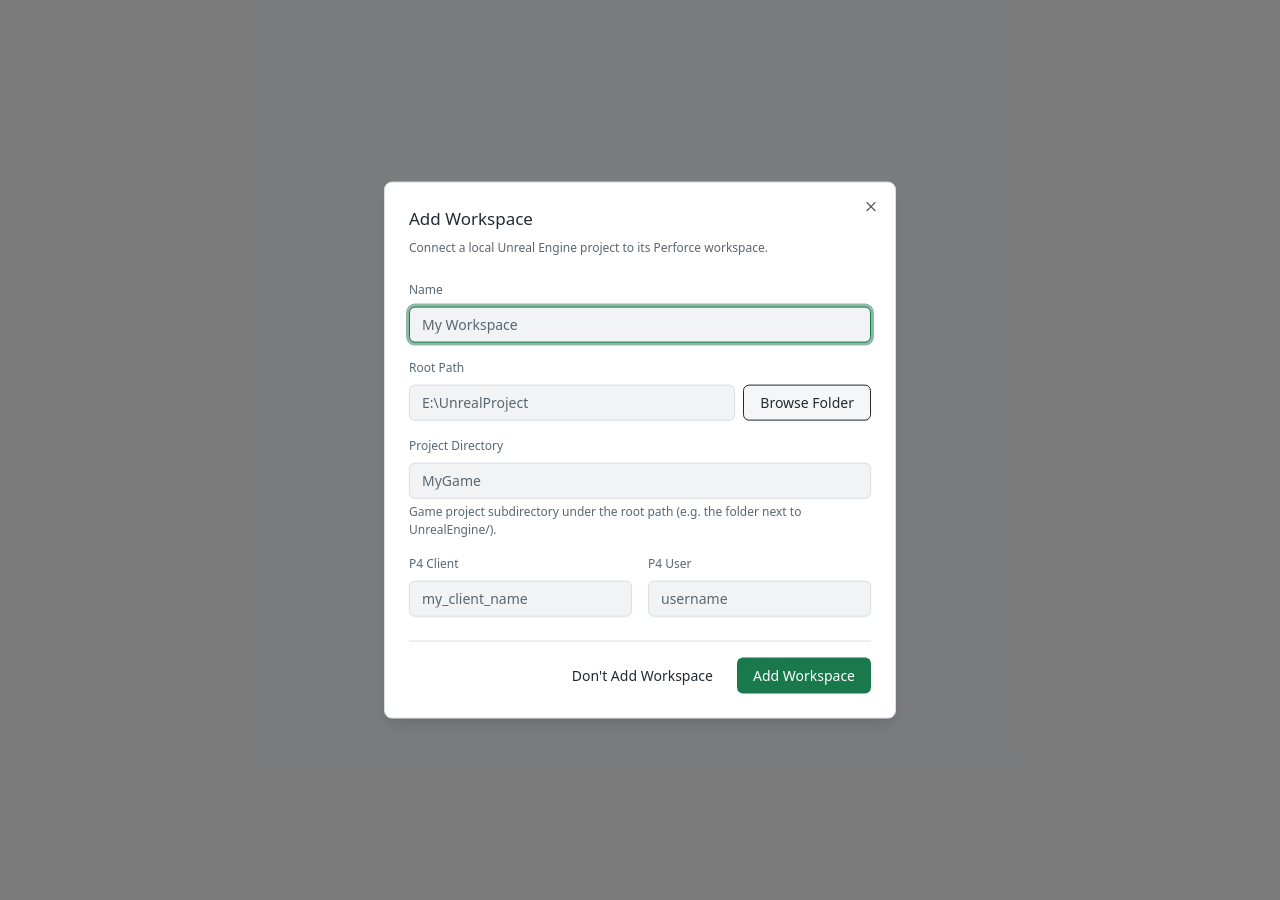
WorkspaceForm dictionary chrome › shows no error text until submit; empty submit shows all five field errors
Expected: the text "Name is required" is not shown
Expected: the text "Root path is required" is not shown
Click the button "Add Workspace": coordinates (804, 675) [737,657,871,693]
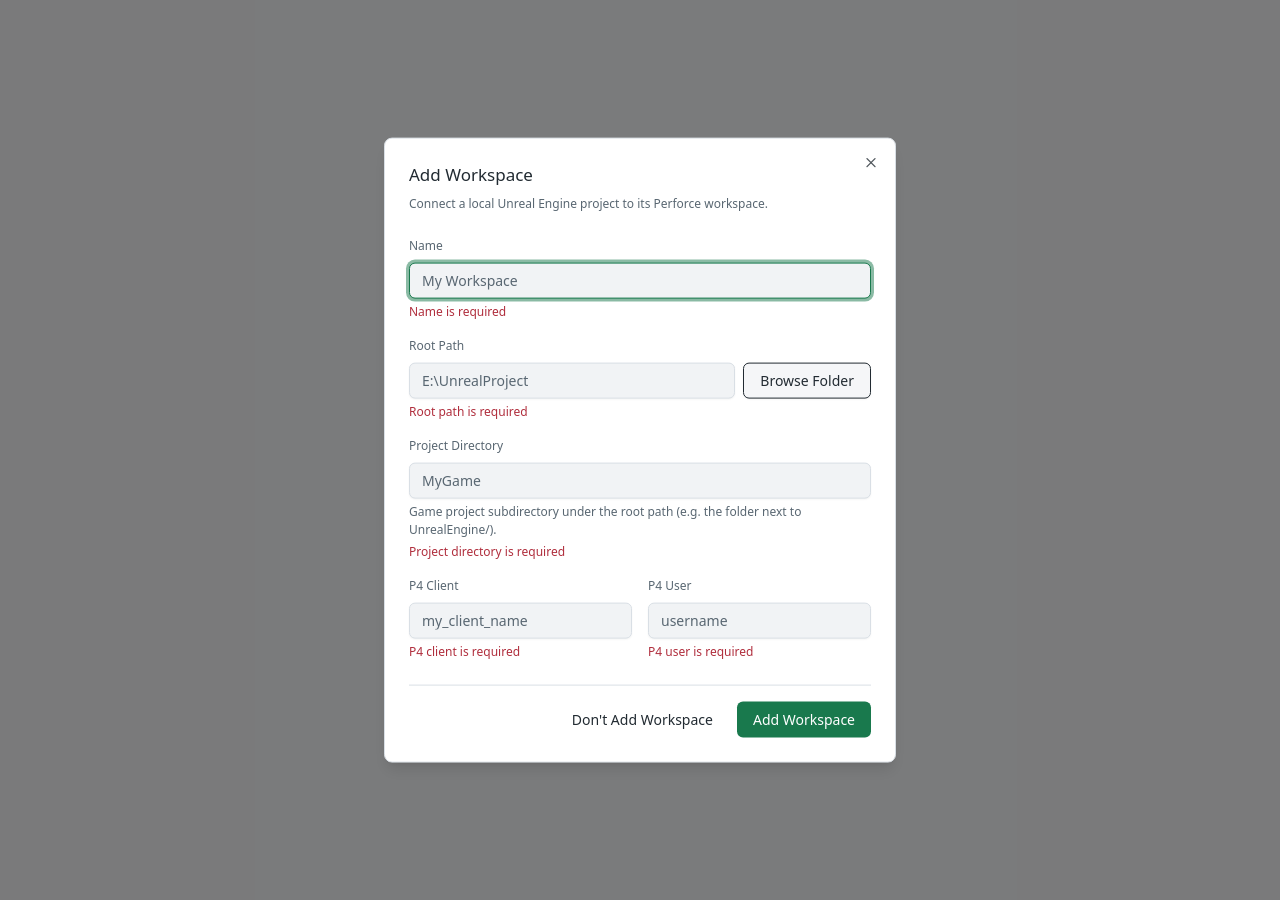
Expected: the text "Name is required" is shown, [409,302,506,319]
Expected: the text "Root path is required" is shown, [409,402,528,419]
Expected: the text "Project directory is required" is shown, [409,542,565,559]
